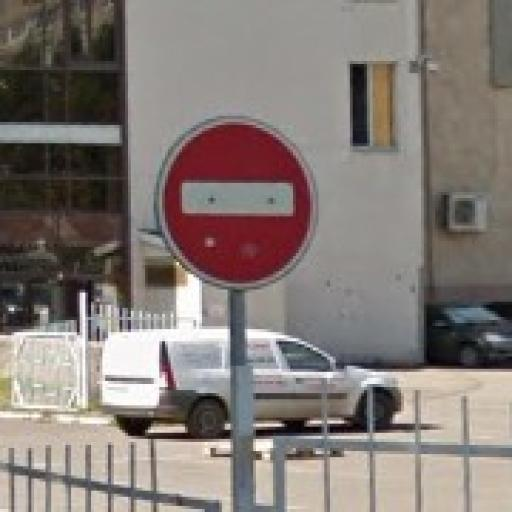traffic_sign: (158, 117, 320, 294)
